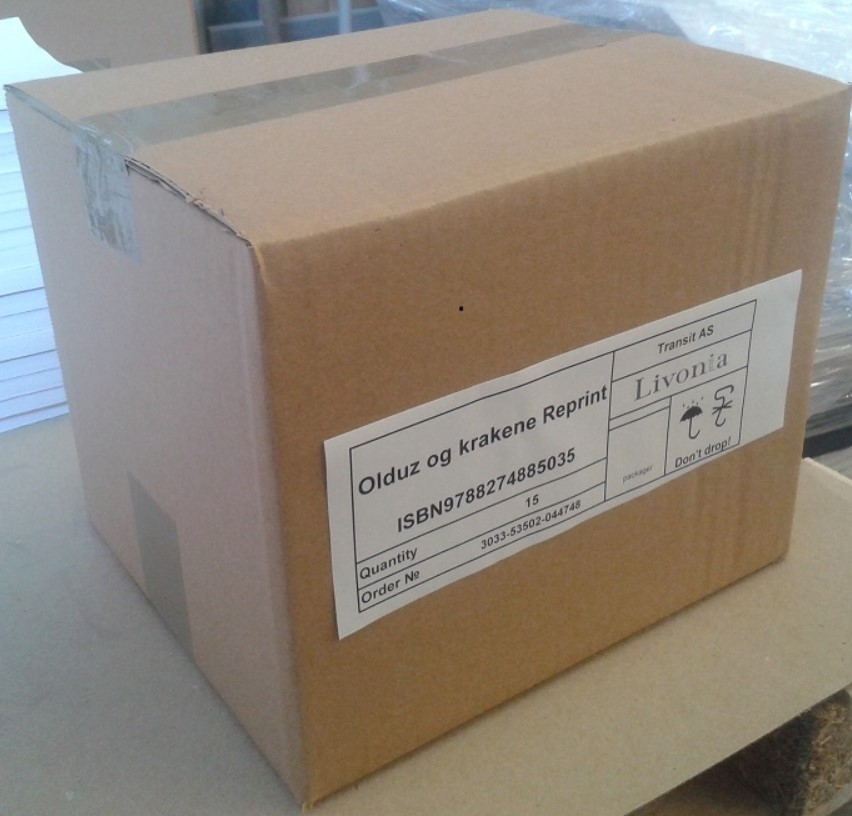stock: (10, 8, 852, 804)
